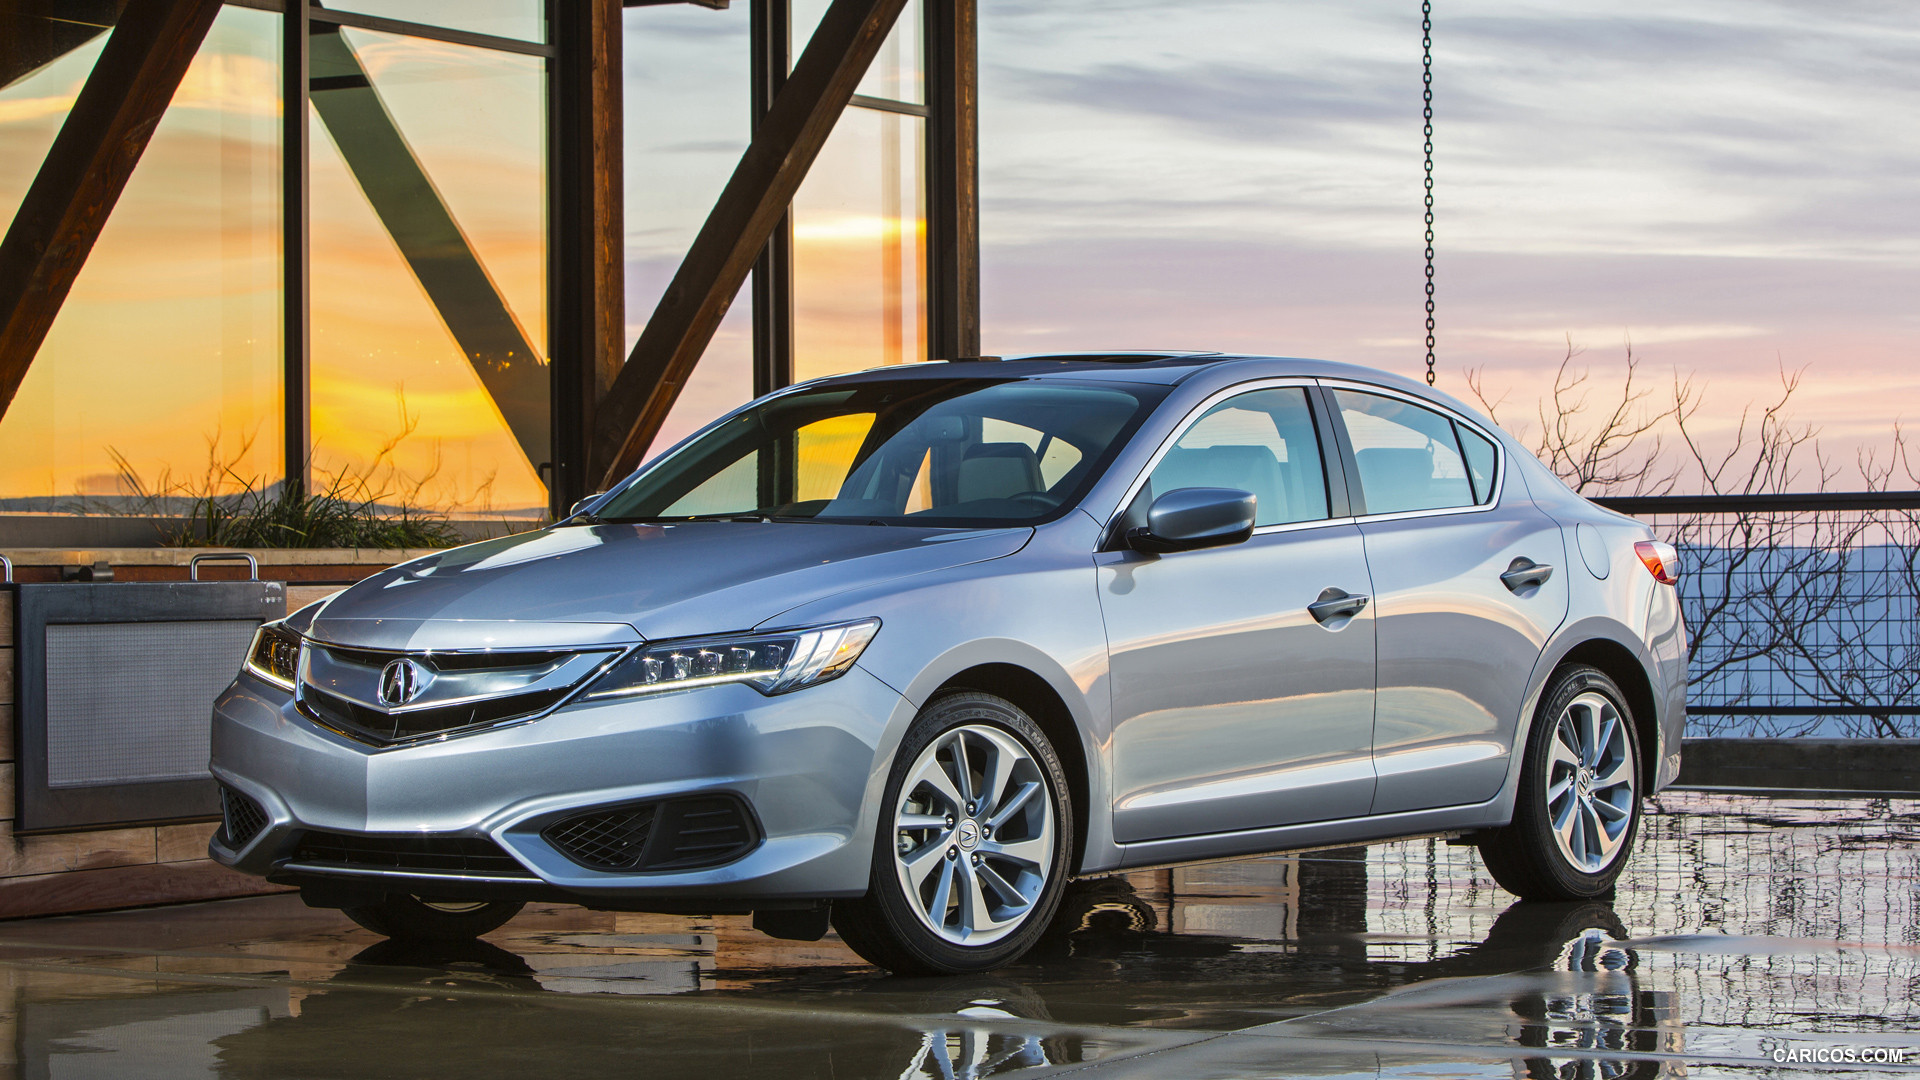Fog Lamp & Scope: (563, 800, 767, 880)
Front: (214, 537, 1018, 897)
Front Bumper: (202, 753, 882, 891)
Grill: (295, 644, 611, 742)
Headlight: (580, 618, 884, 707)
